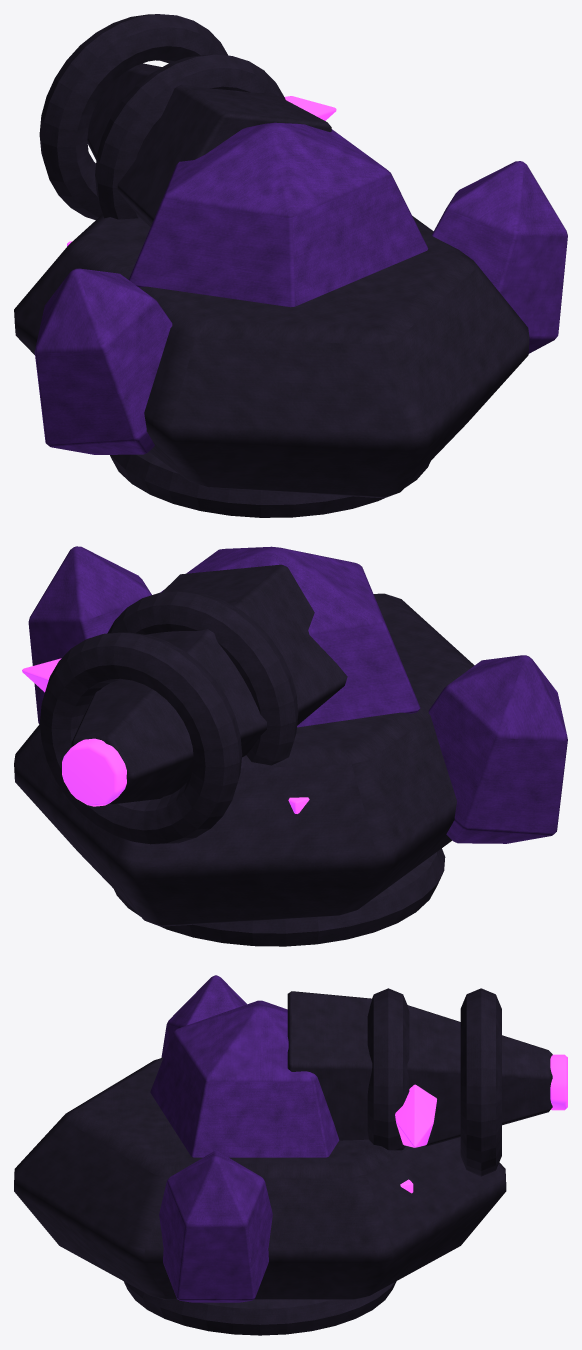
The model's file is conclave_prisme.gltf.
3 renders of one model, top to bottom at view 1: azimuth 30°, elevation 25°; view 2: azimuth 150°, elevation 25°; view 3: azimuth 270°, elevation 25°, orthographic. The views are drawn at different scales.
Visible parts, largest first — view 1: Body.005_Geometry, TurretYaw.005_Geometry, GunRecoil.006_Geometry; view 2: Body.005_Geometry, GunRecoil.006_Geometry, TurretYaw.005_Geometry; view 3: Body.005_Geometry, GunRecoil.006_Geometry, TurretYaw.005_Geometry.
Boxes of the visible parts, left/top/right/bottom form: Body.005_Geometry: left=14, top=161, right=567, bottom=517; TurretYaw.005_Geometry: left=128, top=122, right=428, bottom=307; GunRecoil.006_Geometry: left=39, top=14, right=336, bottom=226; Body.005_Geometry: left=14, top=546, right=567, bottom=946; GunRecoil.006_Geometry: left=22, top=564, right=347, bottom=844; TurretYaw.005_Geometry: left=160, top=546, right=420, bottom=727; Body.005_Geometry: left=14, top=975, right=506, bottom=1335; GunRecoil.006_Geometry: left=287, top=988, right=567, bottom=1176; TurretYaw.005_Geometry: left=150, top=1000, right=339, bottom=1157.
Bounding box in the file's own units: 1.8 × 1.15 × 2.01.
Materials: 3 (2 with a texture image).
